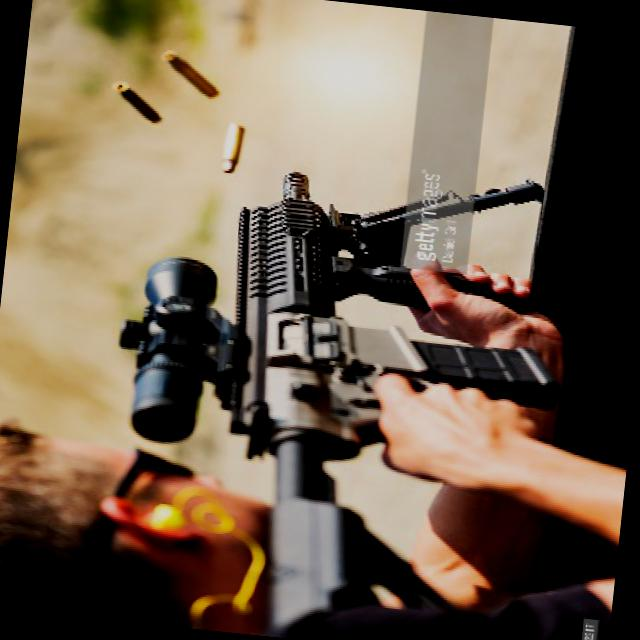long weapon: (93, 148, 581, 639)
